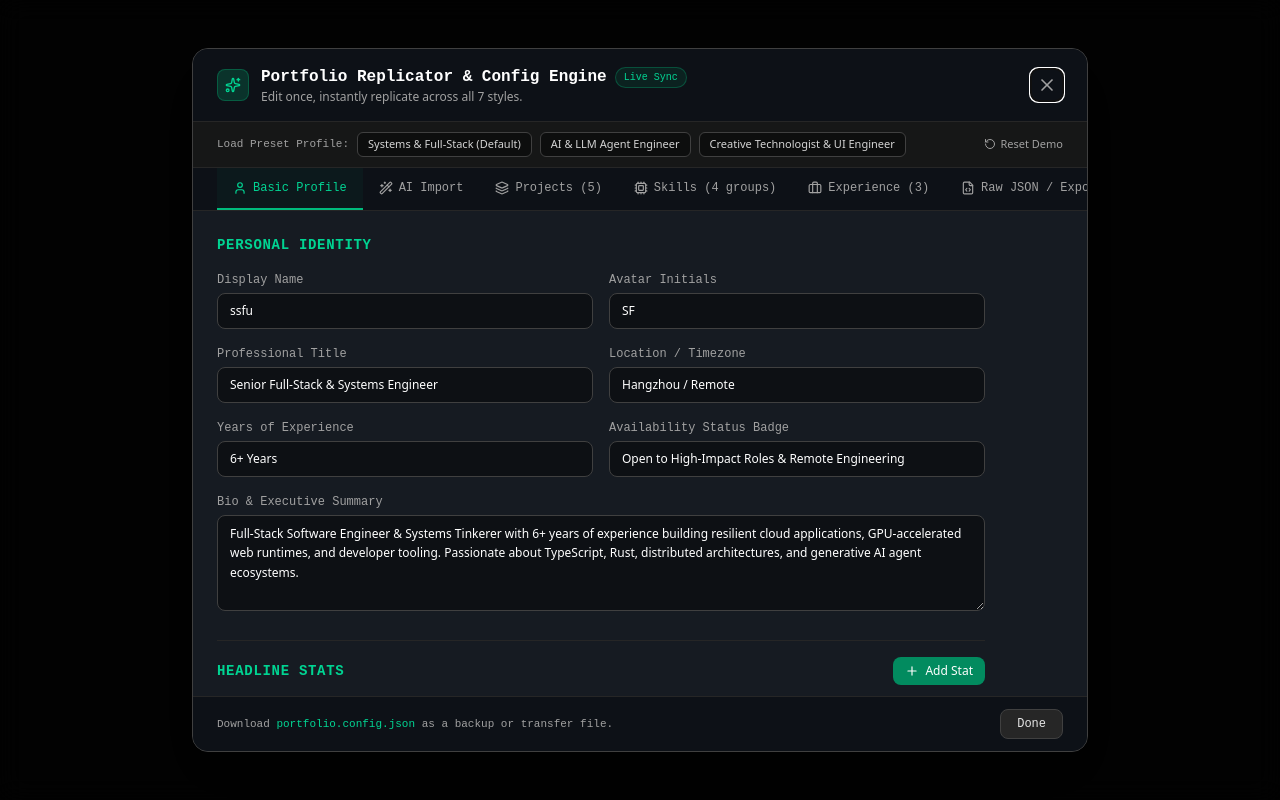
Test: ConfigCustomizerModal — AI Import tab › offers PDF and Word résumé uploads
Step 1. Click the button "AI Import" → (421, 189), box [363,168,479,210]
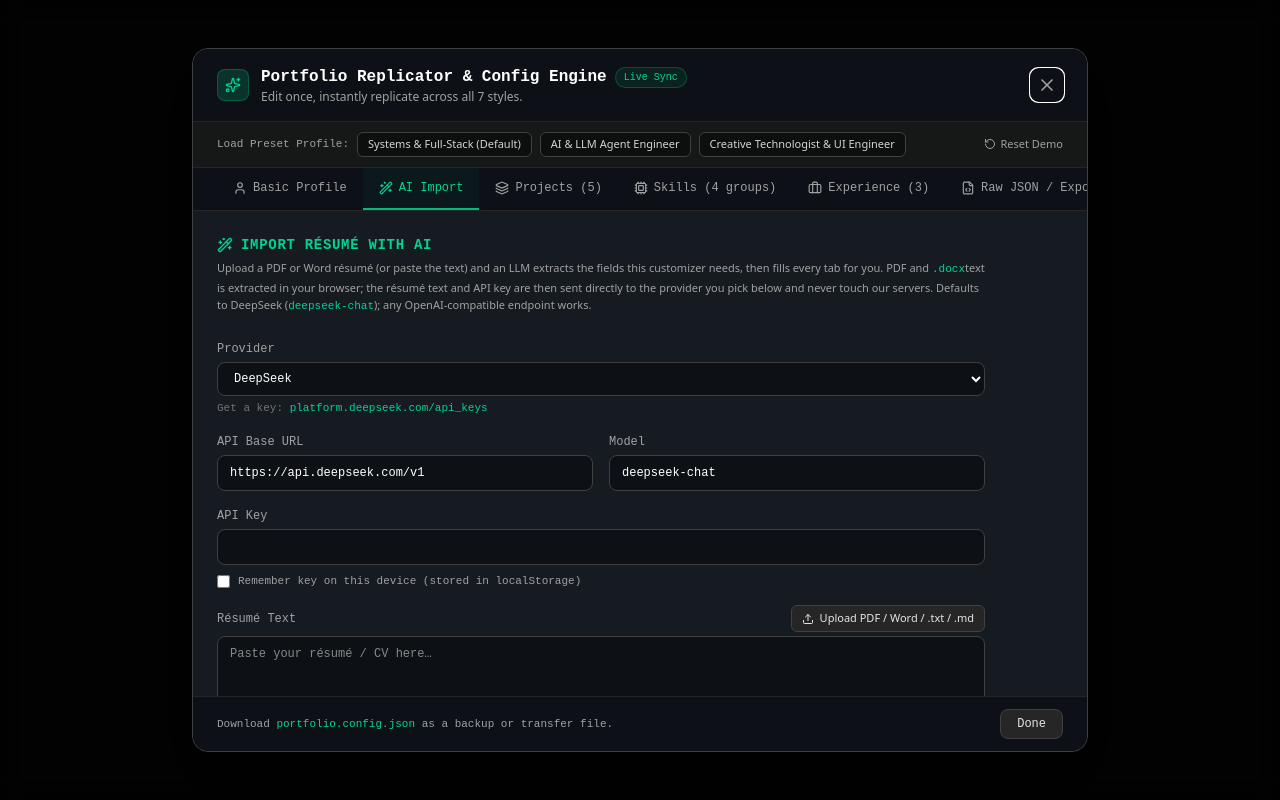
Expected: the element showing "Résumé Text Upload PDF / Word / .txt / .md" is shown, [217,605,985,632]
Expected: the button "Upload PDF / Word / .txt / .md" is shown, [791,605,985,632]
